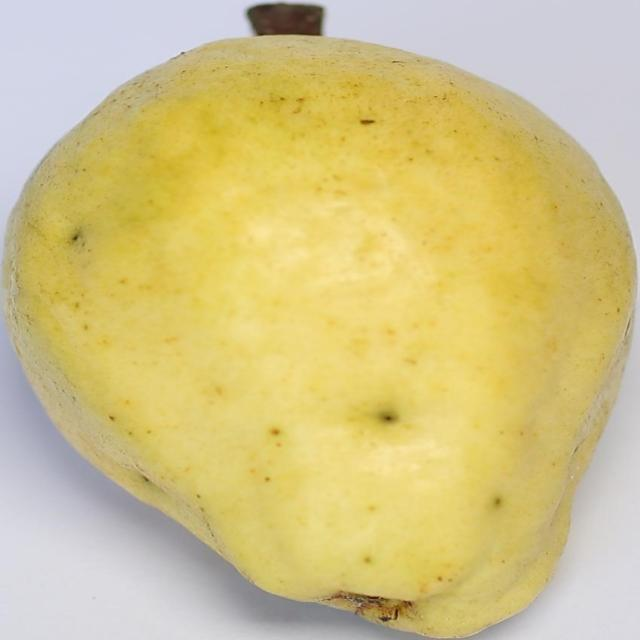Good_Guava: (0, 34, 635, 640)
